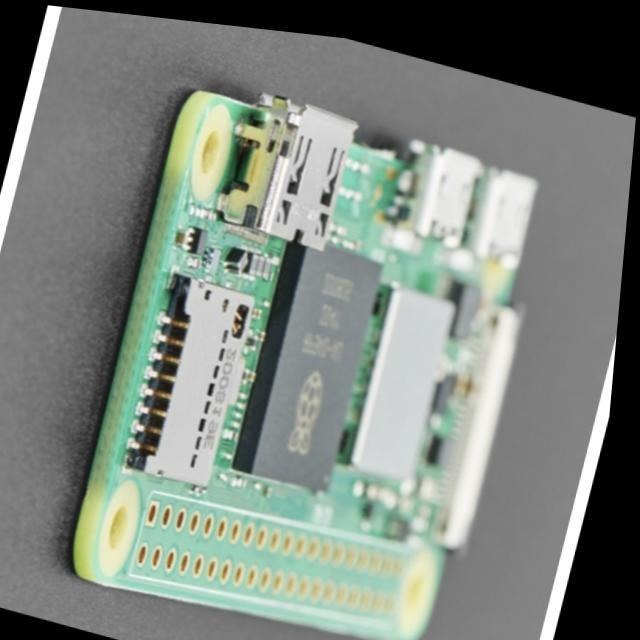Raspberry-Pi-Zero-2-W: (73, 92, 540, 640)
